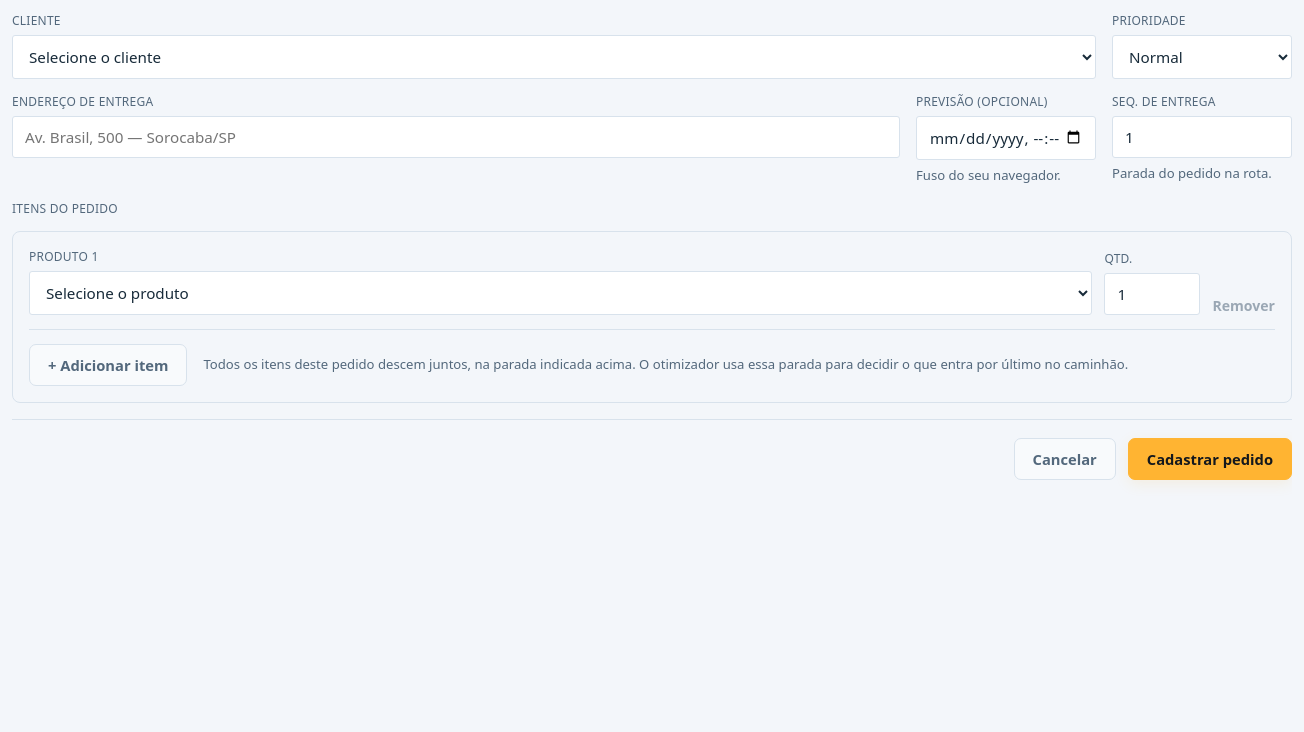
OrderForm › mostra a mensagem mapeada quando o backend recusa
Select "Distribuidora Aurora — Campinas/SP" in the dropdown labelled "CLIENTE": (554, 57) x1=12 y1=35 x2=1096 y2=79
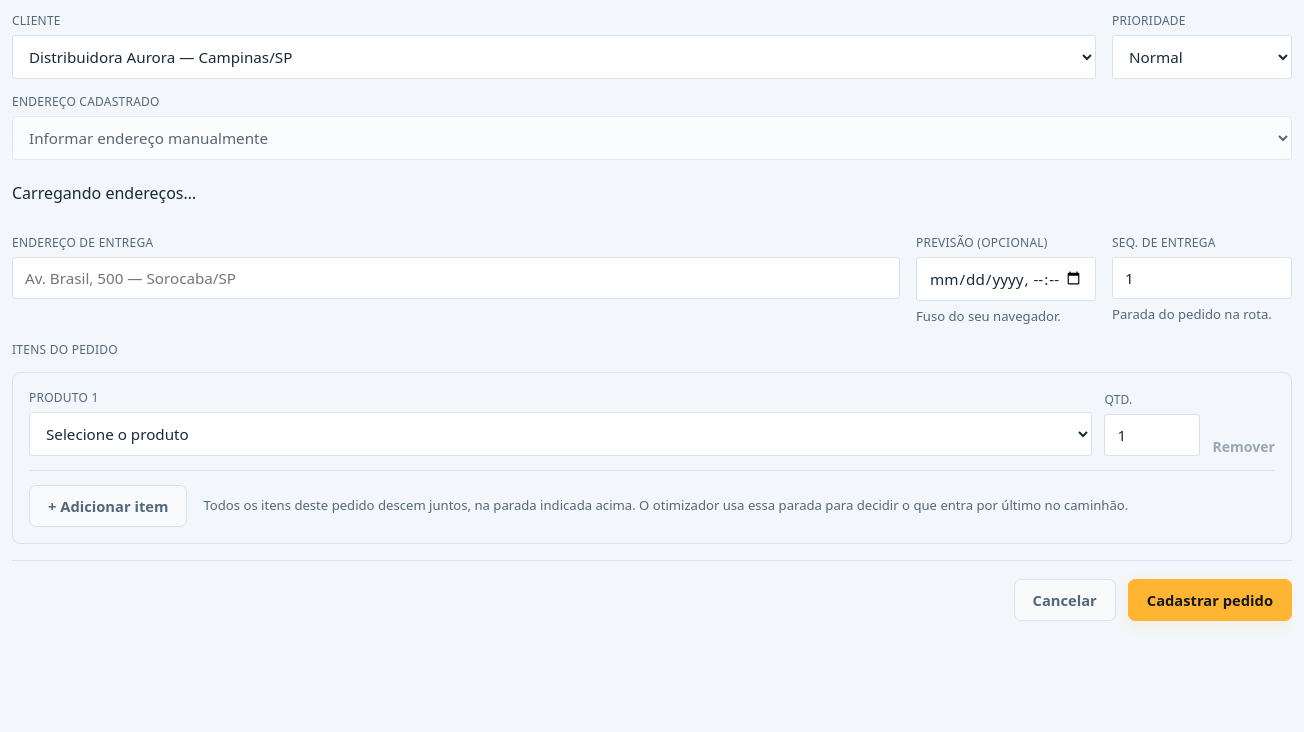
In the field labelled "ENDEREÇO DE ENTREGA": (456, 278) x1=12 y1=257 x2=900 y2=299, type "Av. Brasil, 500"
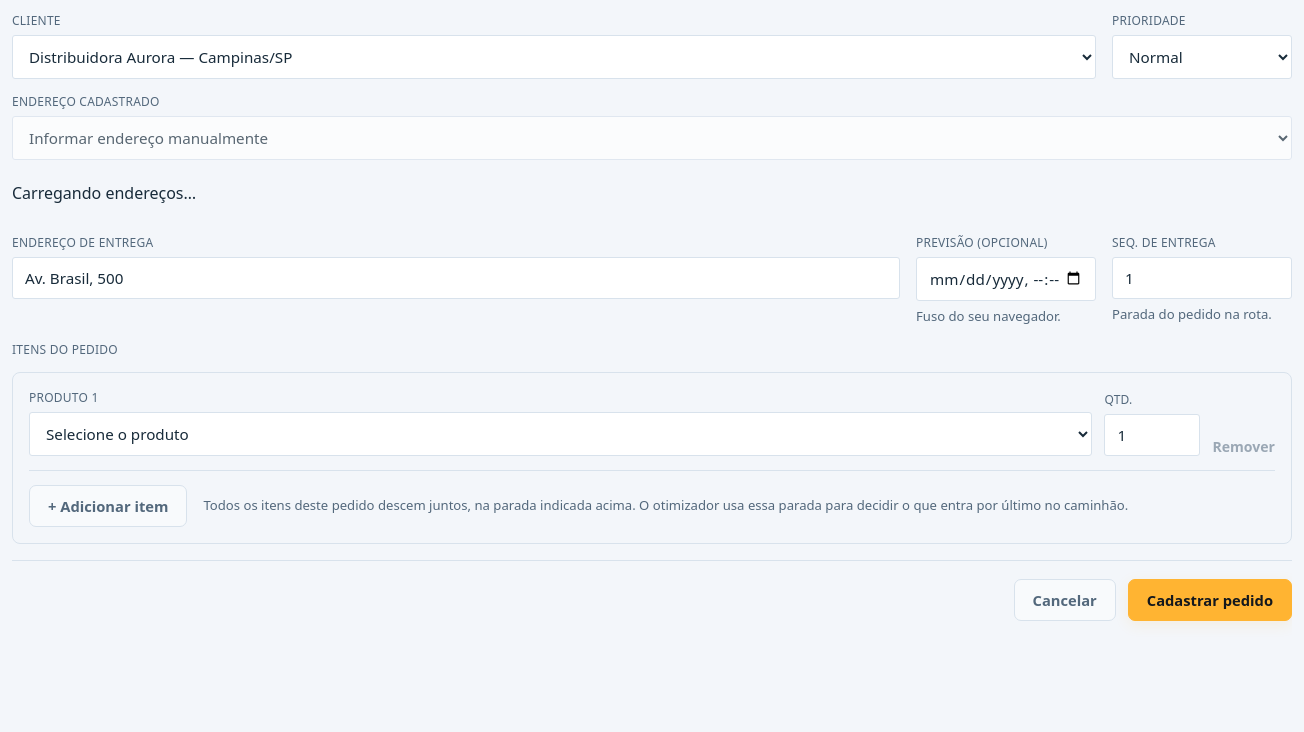
Select "CX-100 — Caixa média" in the dropdown labelled "PRODUTO 1": (561, 434) x1=29 y1=412 x2=1092 y2=456
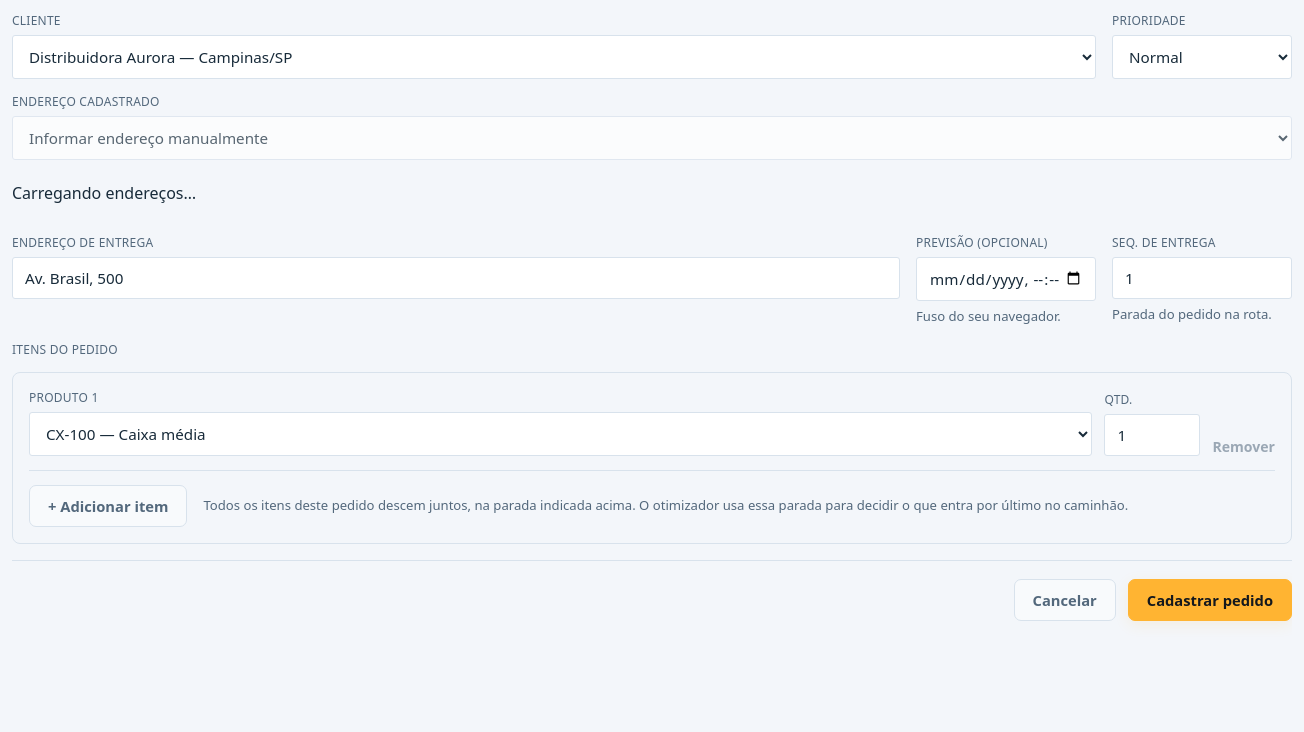
Click the button "Cadastrar pedido": (1210, 600) x1=1128 y1=579 x2=1292 y2=621
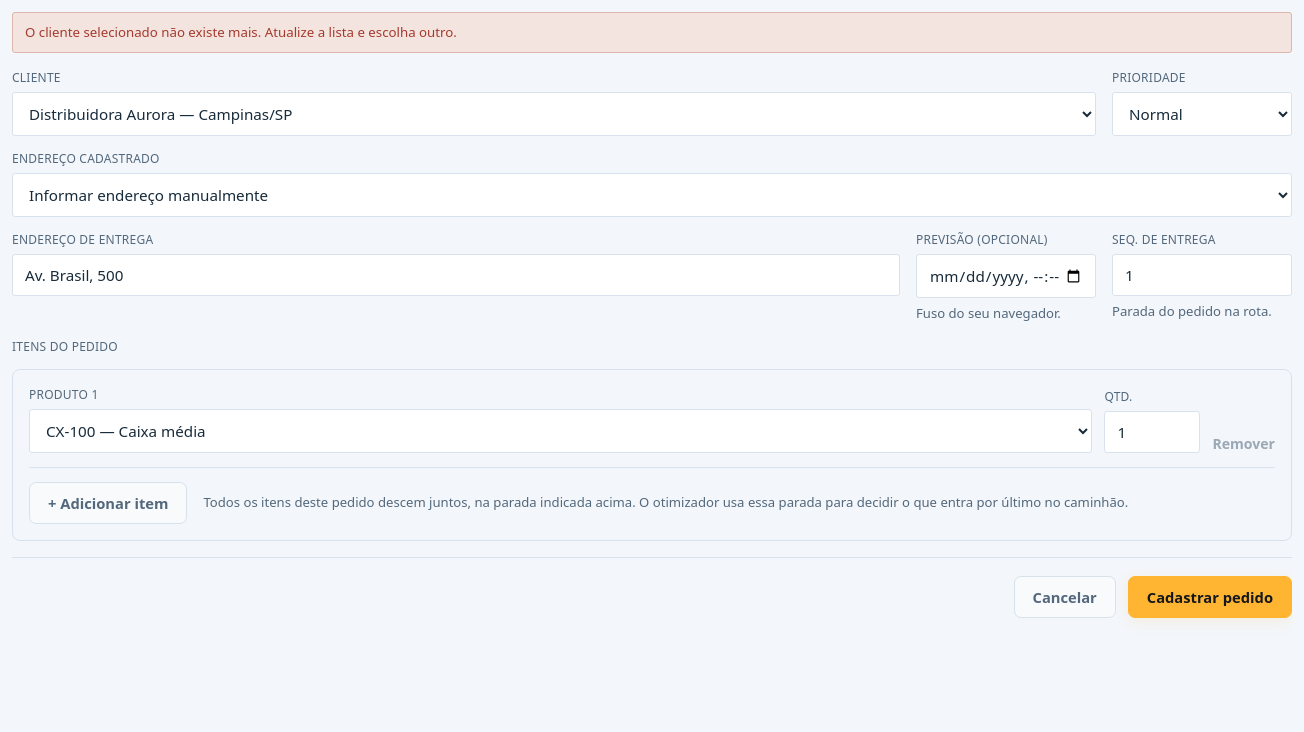
Expected: the message shows "O cliente selecionado não existe mais.", x1=25 y1=23 x2=457 y2=41
